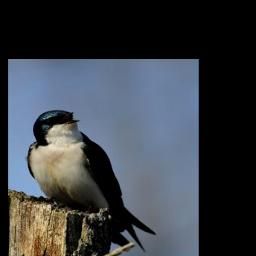Swallow: (28, 109, 157, 253)
